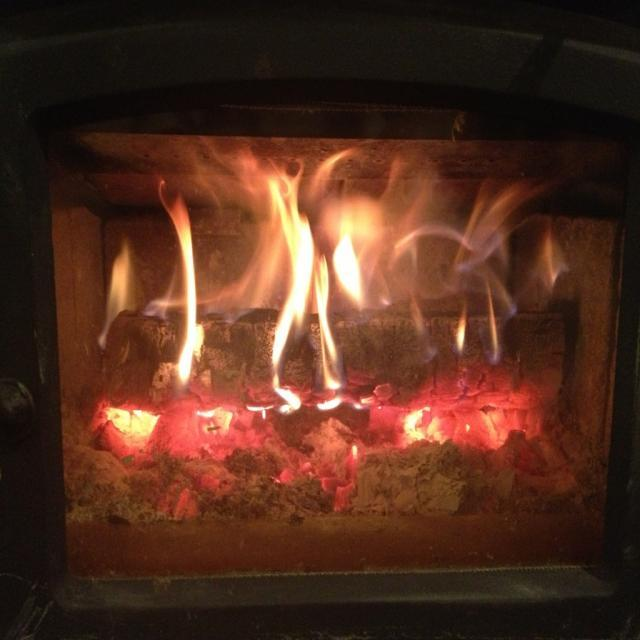Fire: (104, 173, 578, 454)
